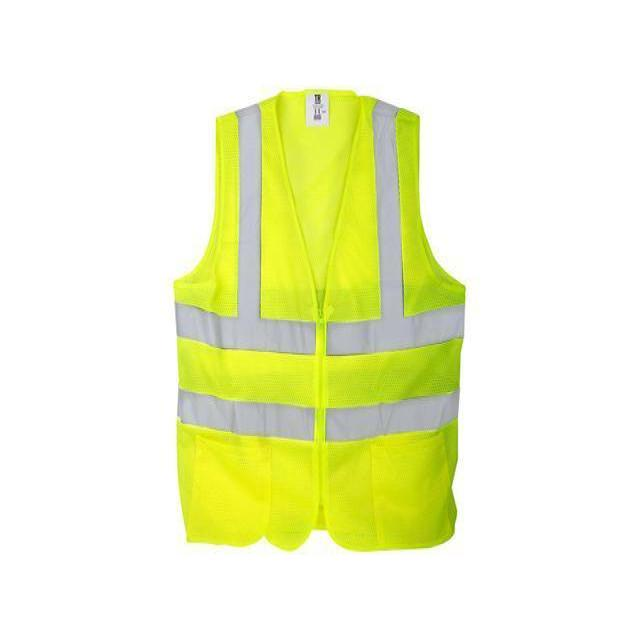Vest: (170, 83, 466, 552)
